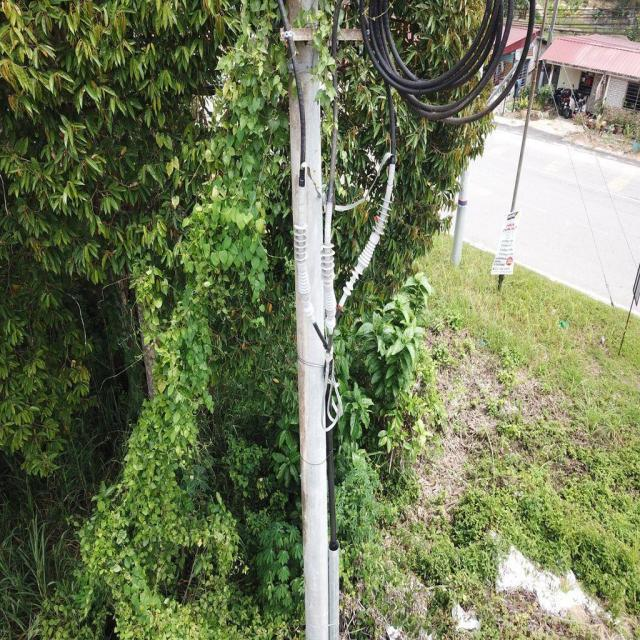light_pole: (61, 24, 322, 614)
